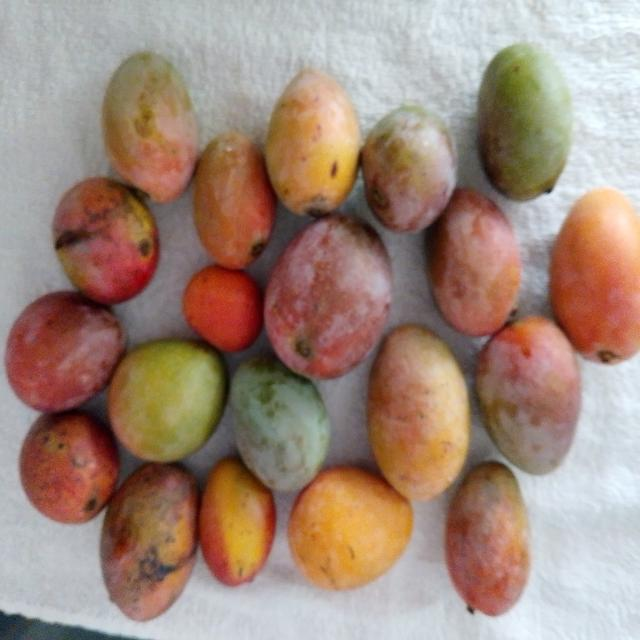mango: (263, 210, 395, 382), (472, 311, 579, 481), (96, 42, 202, 206), (547, 183, 640, 369), (101, 458, 202, 622), (474, 41, 574, 206), (284, 468, 414, 594), (373, 323, 464, 501), (226, 351, 330, 499), (107, 341, 228, 468), (50, 176, 168, 306), (264, 66, 362, 219), (444, 460, 533, 620), (363, 105, 462, 238), (193, 132, 276, 273), (18, 410, 118, 524), (201, 449, 277, 588)
